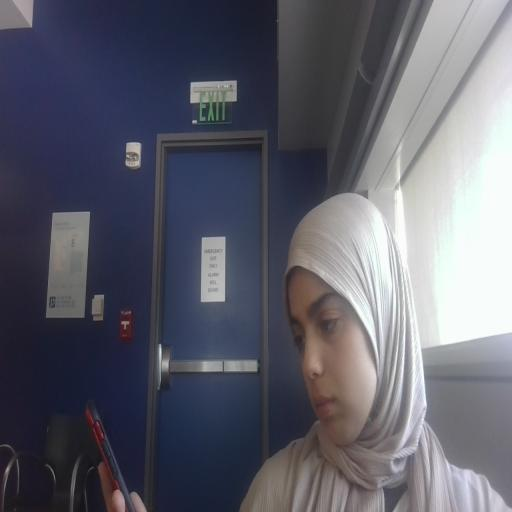phone: (80, 379, 189, 512)
